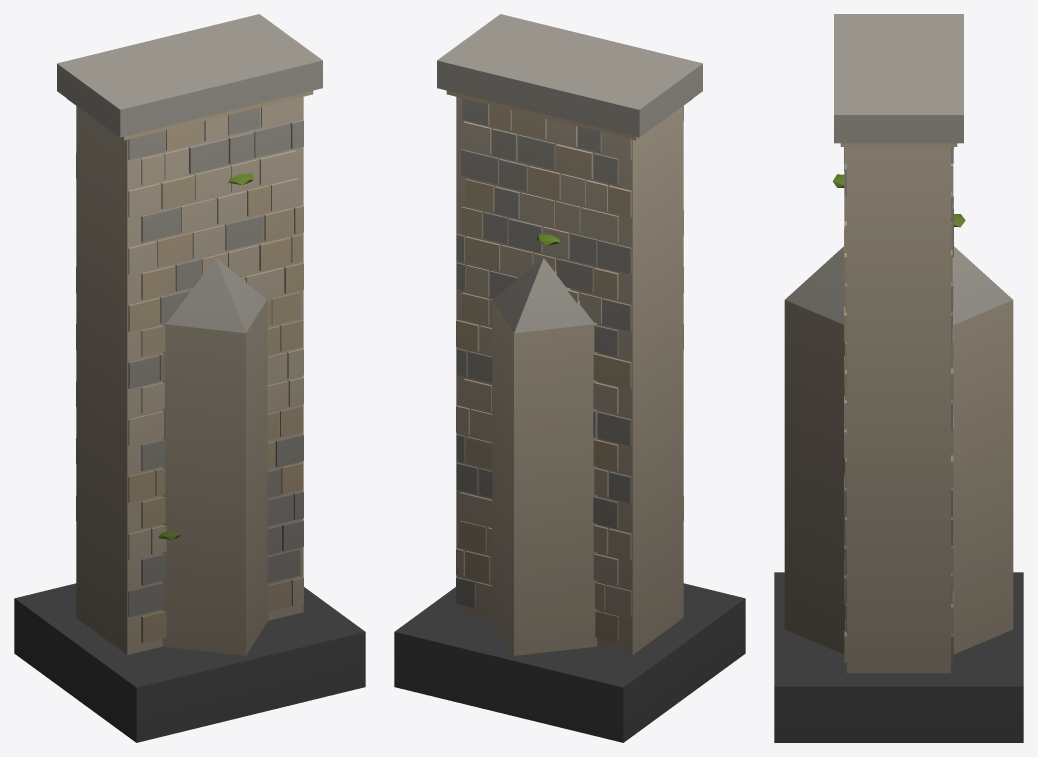
File: Bridge_Pier.fbx
The picture shows the model from 3 angles, left to right: view 1: azimuth 30°, elevation 25°; view 2: azimuth 150°, elevation 25°; view 3: azimuth 270°, elevation 25°; orthographic projection. The views are drawn at different scales.
Parts seen in each view (by area): view 1: Bridge_Pier_LOD0; view 2: Bridge_Pier_LOD0; view 3: Bridge_Pier_LOD0.
Part boxes in pixels (left/top/right/bottom): Bridge_Pier_LOD0: left=14, top=14, right=365, bottom=742; Bridge_Pier_LOD0: left=394, top=14, right=745, bottom=742; Bridge_Pier_LOD0: left=774, top=14, right=1023, bottom=742.
Size of what is drawn, in the model's own units: 5.2 by 13.2 by 4.8.
1 material, 1 textured.
